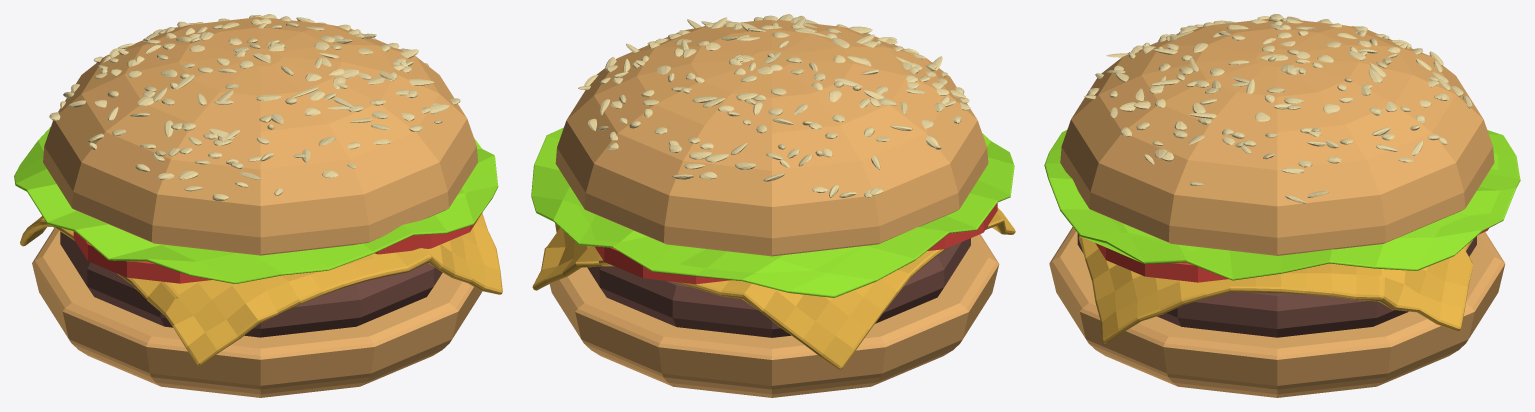
File: Burger.fbx
The picture shows the model from 3 angles, left to right: view 1: azimuth 30°, elevation 25°; view 2: azimuth 150°, elevation 25°; view 3: azimuth 270°, elevation 25°; orthographic projection.
Parts seen in each view (by area): view 1: Burger_Top, Burger_Bottom, Cheese, Salad, Patty, Tomatos; view 2: Burger_Top, Burger_Bottom, Salad, Cheese, Patty, Tomatos; view 3: Burger_Top, Burger_Bottom, Salad, Cheese, Patty, Tomatos.
Boxes of the visible parts, <box> form: Burger_Top: <box>43,17,477,255</box>; Burger_Bottom: <box>32,228,482,397</box>; Cheese: <box>20,213,502,365</box>; Salad: <box>14,127,498,283</box>; Patty: <box>60,231,442,337</box>; Tomatos: <box>73,212,482,283</box>; Burger_Top: <box>555,19,988,256</box>; Burger_Bottom: <box>549,234,999,397</box>; Salad: <box>531,128,1014,297</box>; Cheese: <box>532,208,1015,369</box>; Patty: <box>587,238,970,337</box>; Tomatos: <box>594,203,997,284</box>; Burger_Top: <box>1060,18,1494,255</box>; Burger_Bottom: <box>1049,227,1505,397</box>; Salad: <box>1044,130,1520,280</box>; Cheese: <box>1078,235,1474,343</box>; Patty: <box>1077,233,1476,337</box>; Tomatos: <box>1095,228,1488,282</box>.
Bounding box in the file's own units: 205 × 123 × 205.
